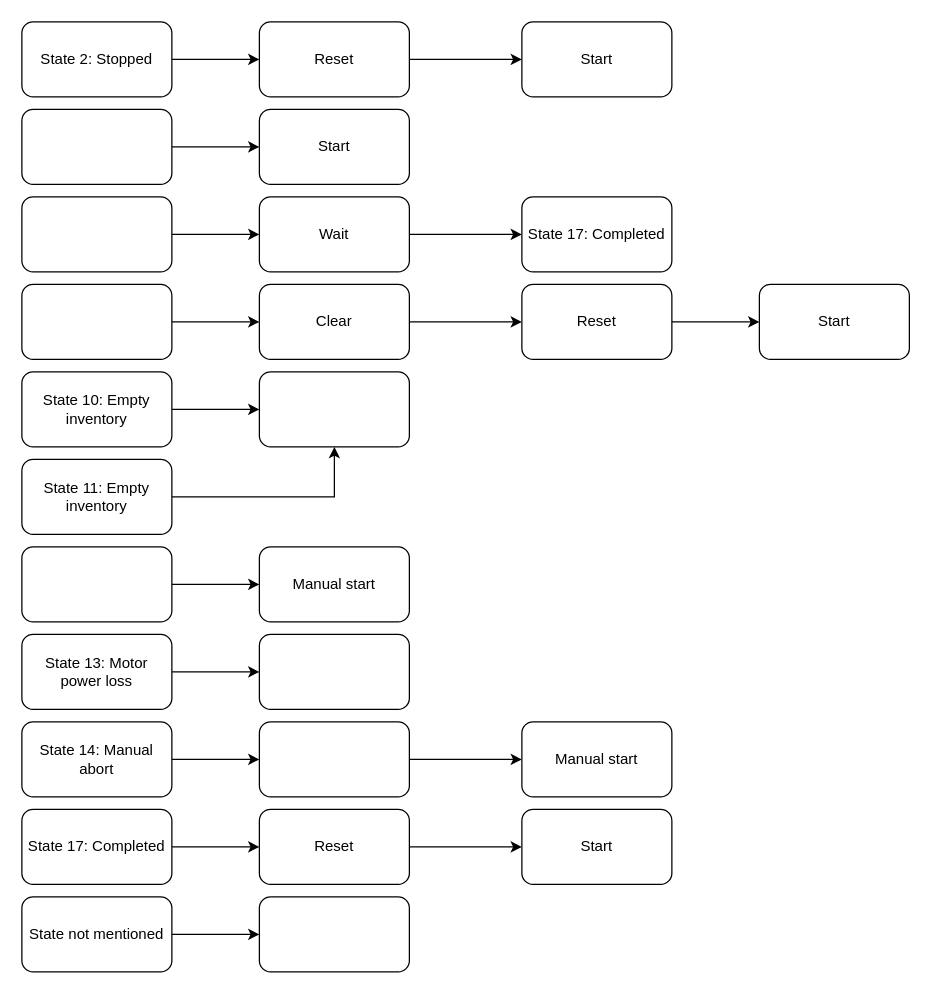
This 931x994 diagram has some shape labels left out. Here are the shapes that lost their labels. From the top down, the centre of each, then its label:
At (96,146): "State 4: Idle".
At (96,234): "State 6: Executing".
At (96,321): "State 9: Aborted".
At (333,409): "Manual reset/maintenance".
At (96,584): "State 12: Manual stop".
At (333,671): "State 13: Manual stop".
At (333,759): "Manual clear".
At (333,934): "Abort".
